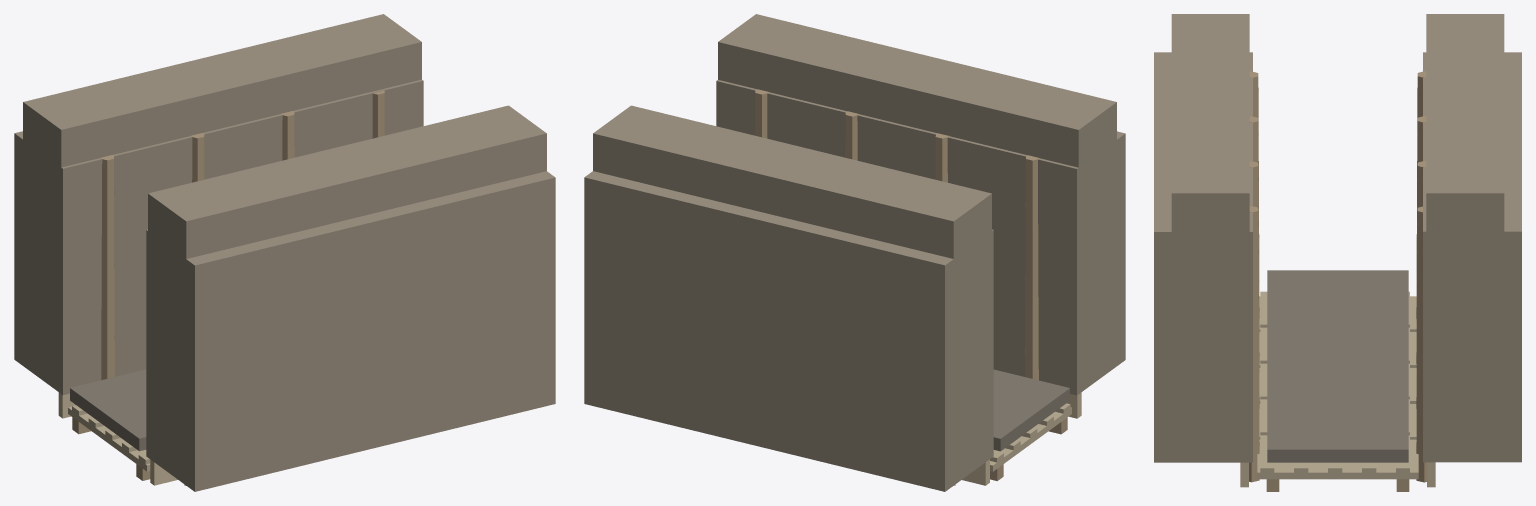
Rendered from trench-line-1917-communication-trench-810ad87b__24035.glb.
3 views of the same model, side by side, from view 1: azimuth 30°, elevation 25°; view 2: azimuth 150°, elevation 25°; view 3: azimuth 270°, elevation 25° (orthographic).
Parts seen in each view (by area): view 1: communication-trench; view 2: communication-trench; view 3: communication-trench.
Boxes of the visible parts, x1,y1,x2,y2 form: communication-trench: (14, 14, 555, 491); communication-trench: (584, 14, 1125, 491); communication-trench: (1154, 14, 1521, 491).
Size of the model in its own units: 3 by 2.4 by 2.6.
